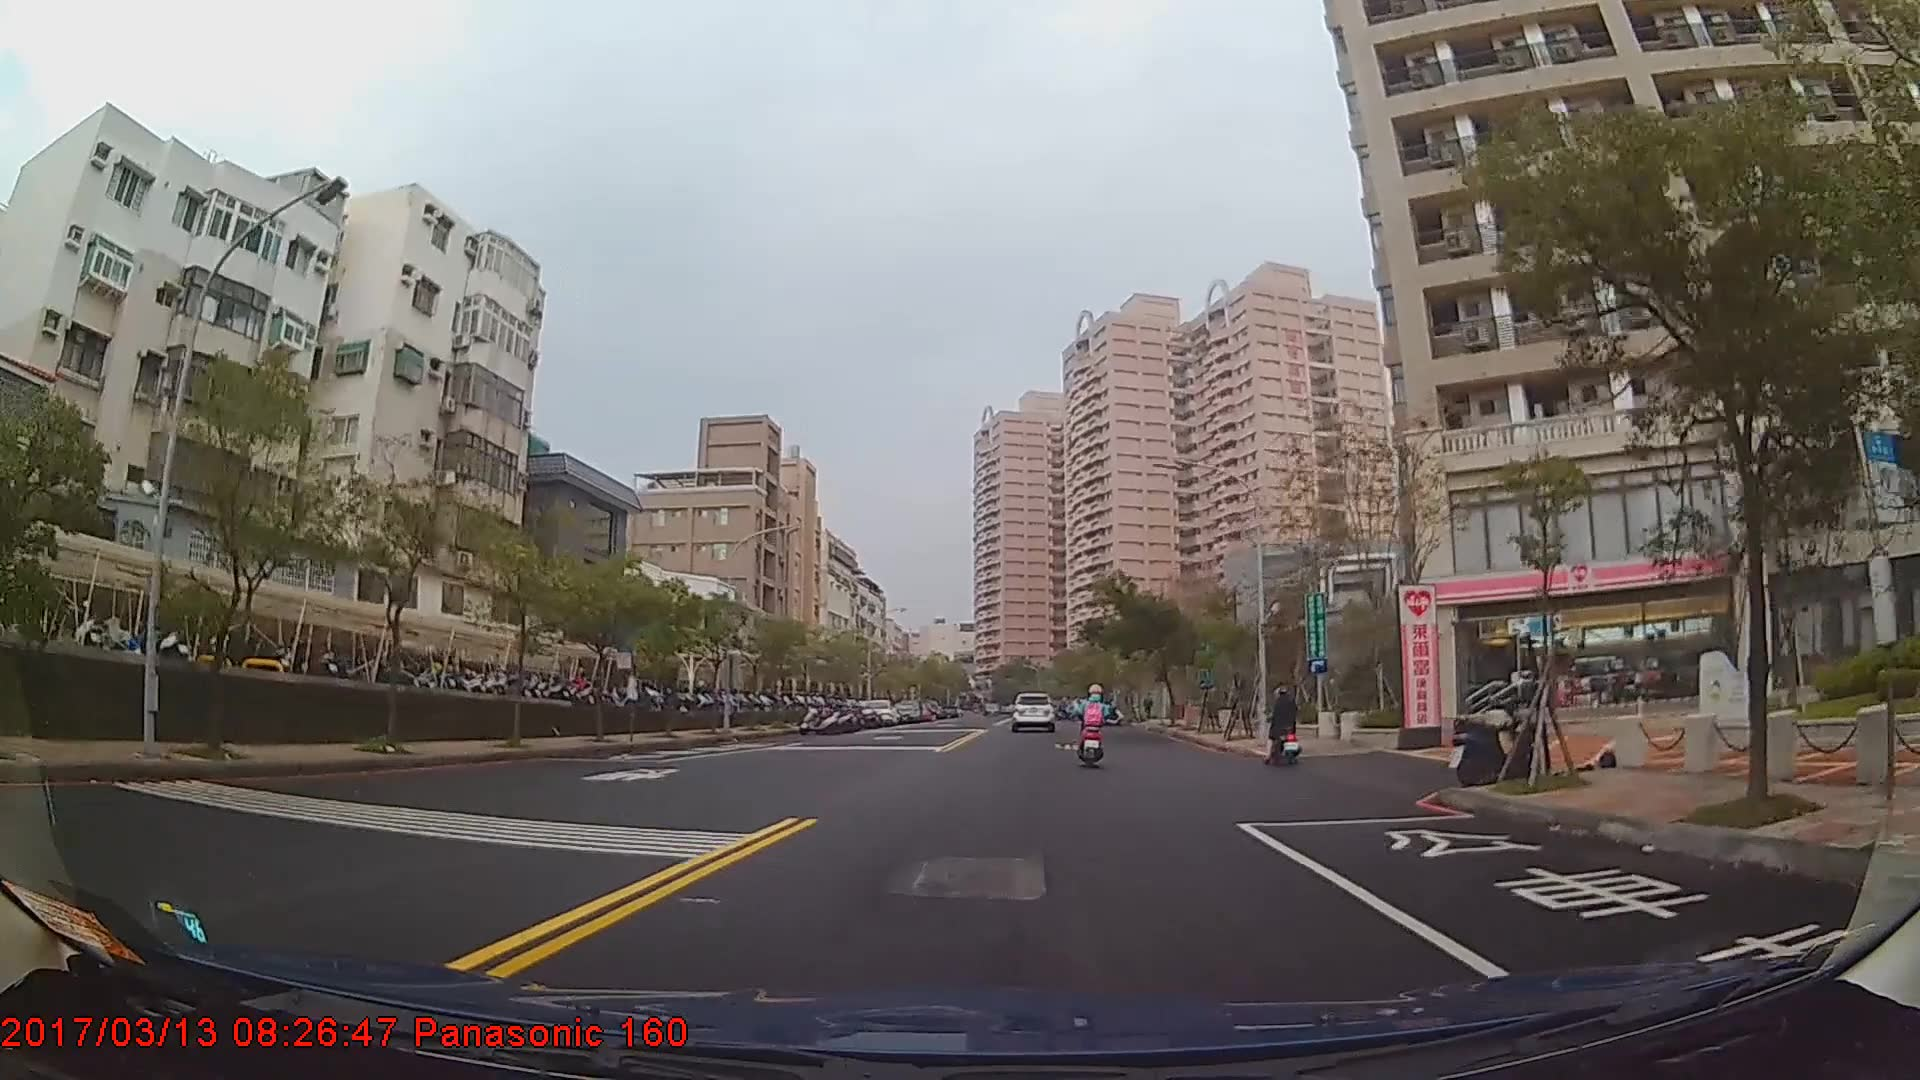rider: (1263, 687, 1304, 766), (1073, 684, 1112, 767)
vehicle: (1006, 690, 1057, 734), (859, 697, 895, 724)
